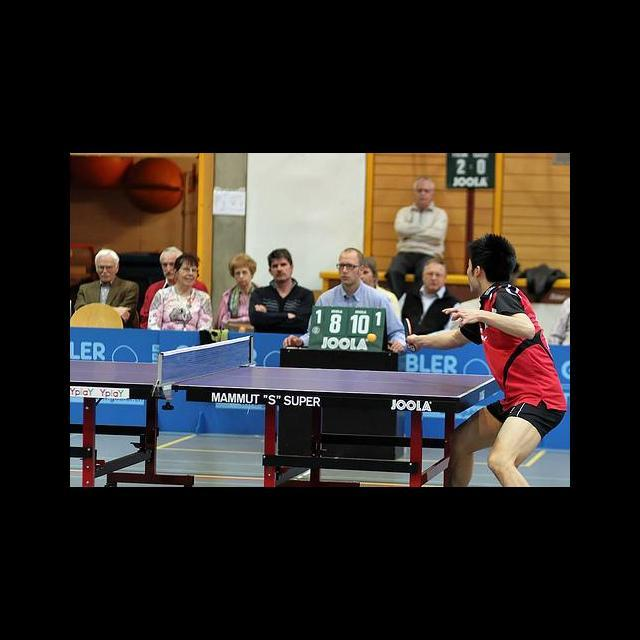ping-pong-ball: (368, 333, 377, 342)
